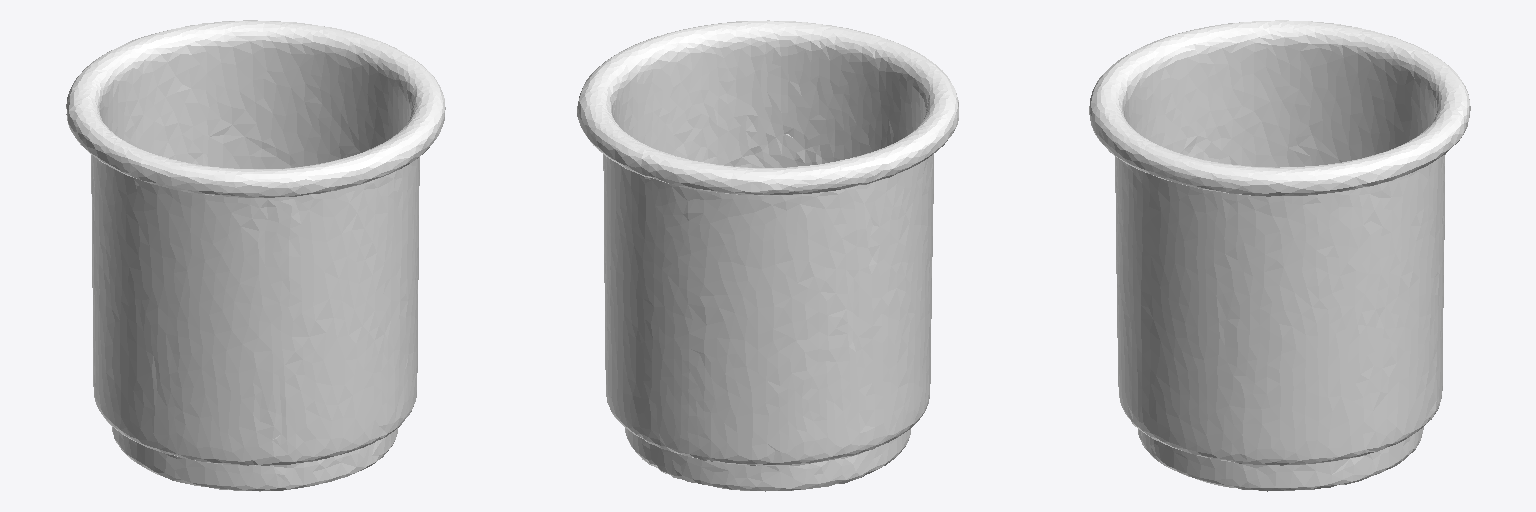
robot.urdf — d_cups:
<robot name="d_cups">
    <link name="base_link">
        <visual>
            <origin xyz="0.0 0.0 0.0" rpy="0.0 0.0 0.0" />
            <geometry>
                <mesh filename="d_cups/textured.obj" scale="1 1 1" />
            </geometry>
            <material name="texture">
                <color rgba="1.0 1.0 1.0 1.0" />
            </material>
        </visual>
        <collision>
            <origin xyz="0.0 0.0 0.0" rpy="0.0 0.0 0.0" />
            <geometry>
                <mesh filename="d_cups/textured_coacd_0.stl" scale="1 1 1" />
            </geometry>
        </collision>
        <collision>
            <origin xyz="0.0 0.0 0.0" rpy="0.0 0.0 0.0" />
            <geometry>
                <mesh filename="d_cups/textured_coacd_1.stl" scale="1 1 1" />
            </geometry>
        </collision>
        <collision>
            <origin xyz="0.0 0.0 0.0" rpy="0.0 0.0 0.0" />
            <geometry>
                <mesh filename="d_cups/textured_coacd_2.stl" scale="1 1 1" />
            </geometry>
        </collision>
        <collision>
            <origin xyz="0.0 0.0 0.0" rpy="0.0 0.0 0.0" />
            <geometry>
                <mesh filename="d_cups/textured_coacd_3.stl" scale="1 1 1" />
            </geometry>
        </collision>
        <collision>
            <origin xyz="0.0 0.0 0.0" rpy="0.0 0.0 0.0" />
            <geometry>
                <mesh filename="d_cups/textured_coacd_4.stl" scale="1 1 1" />
            </geometry>
        </collision>
        <inertial>
            <mass value="0.019" />
            <inertia ixx="1e-3" ixy="0.0" ixz="0.0" iyy="1e-3" iyz="0.0" izz="1e-3" />
        </inertial>
    </link>
</robot>

--- What the picture shows (computed from the rendered views, not written in the file) ---
3 views of the same robot in one strip: view 1: azimuth 30°, elevation 25°; view 2: azimuth 150°, elevation 25°; view 3: azimuth 270°, elevation 25° (orthographic).
Robot: d_cups — 1 links, 0 joints (none); root link base_link; default pose: all joints at 0.
Visible links, largest first — view 1: base_link; view 2: base_link; view 3: base_link.
Link boxes in pixels (x1,y1,x2,y2): base_link: (66, 20, 445, 491); base_link: (577, 20, 958, 491); base_link: (1089, 20, 1470, 491).
Bounding box of the posed robot: 0.0702 × 0.0705 × 0.0689 m (x, y, z).
Meshes: 1 distinct files referenced, 1 mesh visuals loaded (1 OBJ).